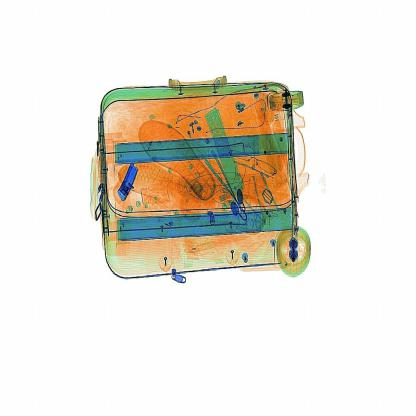pliers: (113, 159, 145, 213)
